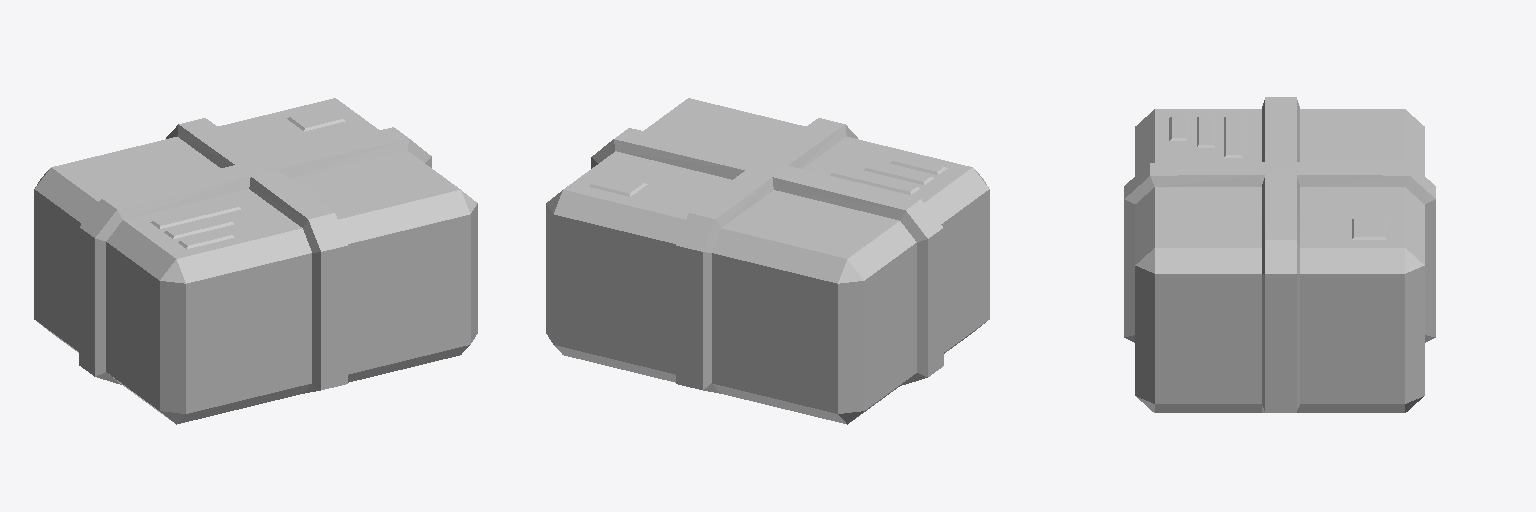
File: package.obj
3 renders of one model, left to right at view 1: azimuth 30°, elevation 25°; view 2: azimuth 150°, elevation 25°; view 3: azimuth 270°, elevation 25°, orthographic.
Parts seen in each view (by area): view 1: package; view 2: package; view 3: package.
Boxes of the visible parts, x1=… form: package: x1=34, y1=98, x2=477, y2=424; package: x1=546, y1=98, x2=989, y2=424; package: x1=1124, y1=97, x2=1435, y2=412.
Bounding box in the file's own units: 1 × 0.5 × 0.8.